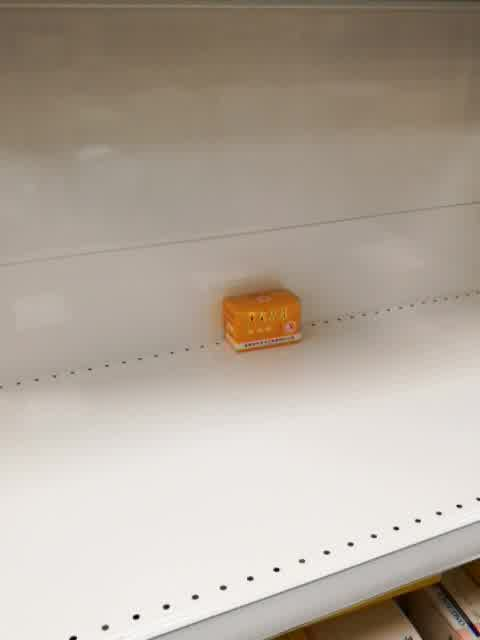jasminetea: (220, 288, 304, 354)
